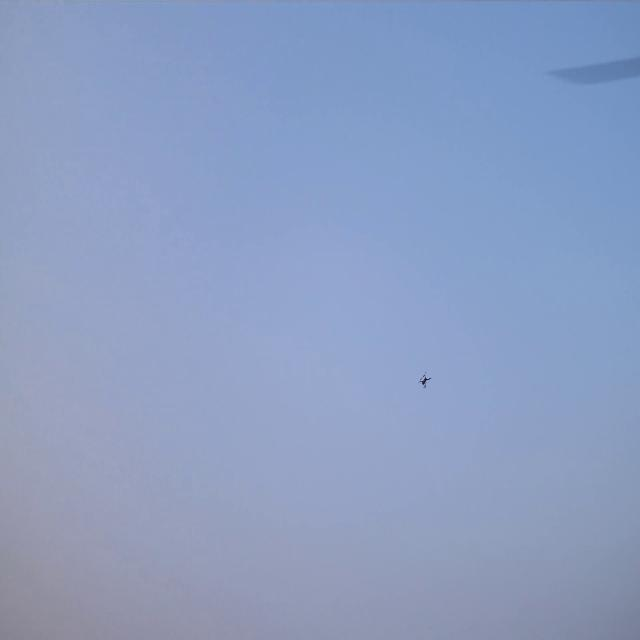UAV: (420, 375, 430, 386)
